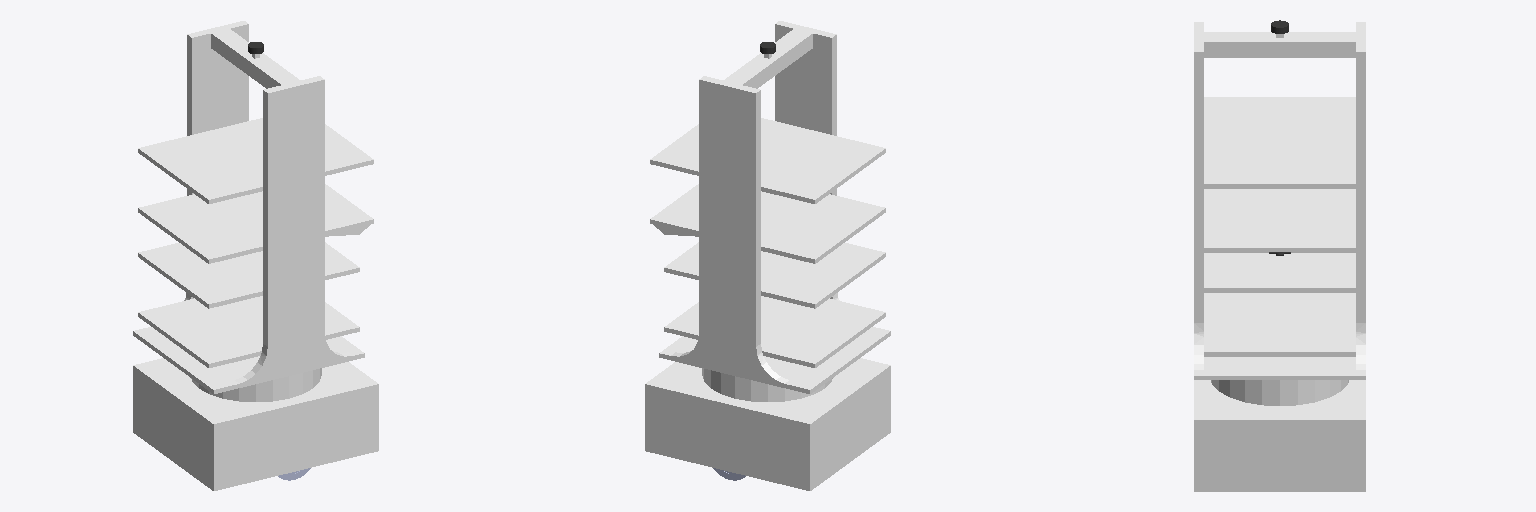
robot.urdf — serv_robot:
<?xml version="1.0"?>
<!-- This URDF was automatically created by SolidWorks to URDF Exporter! Originally created by Stephen Brawner (brawner@gmail.com) 
     Commit Version: 1.6.0-4-g7f85cfe  Build Version: 1.6.7995.38578
     For more information, please see http://wiki.ros.org/sw_urdf_exporter -->
<robot
  name="serv_robot">
  <link name="base_link" />
  <joint name="base_link_joint" type="fixed">
    <origin xyz="0 0 0" rpy="0 0 0" />
    <parent link="base_link" />
    <child link="chassis_base_link" />
  </joint>
  <link
    name="chassis_base_link">
    <inertial>
      <origin
        xyz="-0.0076538 1.6797E-11 0.2"
        rpy="0 0 0" />
      <mass
        value="66" />
      <inertia
        ixx="2.0133"
        ixy="5.0653E-09"
        ixz="-0.01209"
        iyy="1.9768"
        iyz="-6.8859E-10"
        izz="0.71214" />
    </inertial>
    <visual>
      <origin
        xyz="0 0 0"
        rpy="0 0 0" />
      <geometry>
        <mesh
          filename="package://serv_robot/meshes/chassis_base_link.STL" />
      </geometry>
      <material
        name="">
        <color
          rgba="1 1 1 1" />
      </material>
    </visual>
    <collision>
      <origin xyz="0 0 0.4" rpy="0 0 0" />
      <geometry>
        <box size="0.46 0.46 0.8" />
      </geometry>
    </collision>
  </link>
  <link
    name="right_wheel_link">
    <inertial>
      <origin
        xyz="-5.7732E-15 -1.3878E-16 -8.9928E-15"
        rpy="0 0 0" />
      <mass
        value="0.7543" />
      <inertia
        ixx="0.001339"
        ixy="1.0739E-20"
        ixz="2.6734E-22"
        iyy="0.001339"
        iyz="-7.0249E-21"
        izz="0.002494" />
    </inertial>
    <visual>
      <origin
        xyz="0 0 0"
        rpy="1.5708 0 0" />
      <geometry>
        <mesh
          filename="package://serv_robot/meshes/right_wheel_link.STL" />
      </geometry>
      <material
        name="">
        <color
          rgba="0.79216 0.81961 0.93333 1" />
      </material>
    </visual>
    <collision>
      <origin xyz="0 0 0" rpy="0 0 0" />
      <geometry>
        <sphere radius="0.081" />
      </geometry>
    </collision>
  </link>
  <joint
    name="right_wheel_joint"
    type="continuous">
    <origin
      xyz="0 -0.2125 0.043"
      rpy="0 0 0" />
    <parent
      link="chassis_base_link" />
    <child
      link="right_wheel_link" />
    <axis
      xyz="0 1 0" />
  </joint>
  <link
    name="left_wheel_link">
    <inertial>
      <origin
        xyz="-5.7732E-15 -8.3267E-17 -9.1038E-15"
        rpy="0 0 0" />
      <mass
        value="0.7543" />
      <inertia
        ixx="0.001339"
        ixy="-8.4382E-36"
        ixz="-9.2695E-37"
        iyy="0.001339"
        iyz="-3.8794E-20"
        izz="0.002494" />
    </inertial>
    <visual>
      <origin
        xyz="0 0 0"
        rpy="1.5708 0 0" />
      <geometry>
        <mesh
          filename="package://serv_robot/meshes/left_wheel_link.STL" />
      </geometry>
      <material
        name="">
        <color
          rgba="0.79216 0.81961 0.93333 1" />
      </material>
    </visual>
    <collision>
      <origin xyz="0 0 0" rpy="0 0 0" />
      <geometry>
        <sphere radius="0.081" />
      </geometry>
    </collision>
  </link>
  <joint
    name="left_wheel_joint"
    type="continuous">
    <origin
      xyz="0 0.2125 0.043"
      rpy="0 0 0" />
    <parent
      link="chassis_base_link" />
    <child
      link="left_wheel_link" />
    <axis
      xyz="0 1 0" />
  </joint>
  <link
    name="front_castor_link">
    <inertial>
      <origin
        xyz="-2.2204E-16 0 0.012"
        rpy="0 0 0" />
      <mass
        value="0.047189" />
      <inertia
        ixx="4.732E-05"
        ixy="0"
        ixz="0"
        iyy="4.732E-05"
        iyz="0"
        izz="4.732E-05" />
    </inertial>
    <visual>
      <origin
        xyz="0 0 0"
        rpy="0 0 0" />
      <geometry>
        <mesh
          filename="package://serv_robot/meshes/front_castor_link.STL" />
      </geometry>
      <material
        name="">
        <color
          rgba="0.79216 0.81961 0.93333 1" />
      </material>
    </visual>
    <collision>
      <origin xyz="0 0 0.012" rpy="0 0 0" />
      <geometry>
        <sphere radius="0.05" />
      </geometry>
    </collision>
  </link>
  <joint
    name="front_castor_joint"
    type="fixed">
    <origin
      xyz="0.2102 0 0"
      rpy="0 0 0" />
    <parent
      link="chassis_base_link" />
    <child
      link="front_castor_link" />
    <axis
      xyz="0 0 0" />
  </joint>
  <link
    name="back_castor_link">
    <inertial>
      <origin
        xyz="5.7732E-15 -9.1038E-15 0.012"
        rpy="0 0 0" />
      <mass
        value="0.047189" />
      <inertia
        ixx="4.732E-05"
        ixy="0"
        ixz="0"
        iyy="4.732E-05"
        iyz="0"
        izz="4.732E-05" />
    </inertial>
    <visual>
      <origin
        xyz="0 0 0"
        rpy="0 0 0" />
      <geometry>
        <mesh
          filename="package://serv_robot/meshes/back_castor_link.STL" />
      </geometry>
      <material
        name="">
        <color
          rgba="0.77647 0.75686 0.73725 1" />
      </material>
    </visual>
    <collision>
      <origin xyz="0 0 0.012" rpy="0 0 0" />
      <geometry>
        <sphere radius="0.05" />
      </geometry>
    </collision>
  </link>
  <joint
    name="back_castor_joint"
    type="fixed">
    <origin
      xyz="-0.2102 0 0"
      rpy="0 0 0" />
    <parent
      link="chassis_base_link" />
    <child
      link="back_castor_link" />
    <axis
      xyz="0 0 0" />
  </joint>
  <link
    name="camera_link">
    <inertial>
      <origin
        xyz="0.010798 9.2149E-15 -4.6629E-15"
        rpy="0 0 0" />
      <mass
        value="0.038454" />
      <inertia
        ixx="1.3692E-05"
        ixy="7.1932E-22"
        ixz="0"
        iyy="4.36E-06"
        iyz="1.8873E-22"
        izz="1.246E-05" />
    </inertial>
    <visual>
      <origin
        xyz="0 0 0"
        rpy="0 0 0" />
      <geometry>
        <mesh
          filename="package://serv_robot/meshes/camera_link.STL" />
      </geometry>
      <material
        name="">
        <color
          rgba="0.26667 0.26667 0.26667 1" />
      </material>
    </visual>
    <collision>
      <origin xyz="0 0 0" rpy="0 0 0" />
      <geometry>
        <box size="0.04 0.025 0.02" />
      </geometry>
    </collision>
  </link>
  <joint
    name="camera_joint"
    type="fixed">
    <origin
      xyz="0.25106 0 0.74709"
      rpy="0 0.99484 0" />
    <parent
      link="chassis_base_link" />
    <child
      link="camera_link" />
    <axis
      xyz="0 0 0" />
  </joint>
  <link
    name="lidar_link">
    <inertial>
      <origin
        xyz="-5.7732E-15 9.1038E-15 0.010567"
        rpy="0 0 0" />
      <mass
        value="0.03527" />
      <inertia
        ixx="7.1669E-06"
        ixy="1.4117E-24"
        ixz="-6.7257E-23"
        iyy="7.1669E-06"
        iyz="1.4332E-23"
        izz="1.2005E-05" />
    </inertial>
    <visual>
      <origin
        xyz="0 0 0"
        rpy="0 0 0" />
      <geometry>
        <mesh
          filename="package://serv_robot/meshes/lidar_link.STL" />
      </geometry>
      <material
        name="">
        <color
          rgba="0.26667 0.26667 0.26667 1" />
      </material>
    </visual>
    <collision>
      <origin xyz="0 0 0" rpy="0 0 0" />
      <geometry>
        <cylinder radius="0.04" length="0.02" />
      </geometry>
    </collision>
  </link>
  <joint
    name="lidar_joint"
    type="fixed">
    <origin
      xyz="0 0 1.307"
      rpy="0 0 0" />
    <parent
      link="chassis_base_link" />
    <child
      link="lidar_link" />
    <axis
      xyz="0 0 0" />
  </joint>

  <!-- Gazebo simplified collision geometry and materials -->
  <gazebo reference="chassis_base_link">
    <material>Gazebo/White</material>
    <sensor name="imu_sensor" type="imu">
      <always_on>true</always_on>
      <update_rate>100</update_rate>
      <visualize>false</visualize>
      <plugin name="gazebo_ros_imu" filename="libgazebo_ros_imu_sensor.so">
        <ros>
          <remapping>~/out:=imu</remapping>
        </ros>
        <initial_orientation_as_reference>false</initial_orientation_as_reference>
        <frame_name>base_link</frame_name>
      </plugin>
    </sensor>
  </gazebo>
  <gazebo reference="right_wheel_link">
    <material>Gazebo/Blue</material>
    <mu1>1.0</mu1>
    <mu2>1.0</mu2>
    <kp>1e6</kp>
    <kd>10.0</kd>
  </gazebo>
  <gazebo reference="left_wheel_link">
    <material>Gazebo/Blue</material>
    <mu1>1.0</mu1>
    <mu2>1.0</mu2>
    <kp>1e6</kp>
    <kd>10.0</kd>
  </gazebo>
  <gazebo reference="front_castor_link">
    <material>Gazebo/Grey</material>
    <mu1>0.01</mu1>
    <mu2>0.01</mu2>
    <kp>1e6</kp>
    <kd>10.0</kd>
  </gazebo>
  <gazebo reference="back_castor_link">
    <material>Gazebo/Grey</material>
    <mu1>0.01</mu1>
    <mu2>0.01</mu2>
    <kp>1e6</kp>
    <kd>10.0</kd>
  </gazebo>
  <gazebo reference="camera_link">
    <material>Gazebo/DarkGrey</material>
  </gazebo>
  <gazebo reference="lidar_link">
    <material>Gazebo/DarkGrey</material>
    <sensor name="lidar" type="ray">
      <always_on>true</always_on>
      <visualize>false</visualize>
      <update_rate>5</update_rate>
      <ray>
        <scan>
          <horizontal>
            <samples>360</samples>
            <resolution>1</resolution>
            <min_angle>-3.14159</min_angle>
            <max_angle>3.14159</max_angle>
          </horizontal>
        </scan>
        <range>
          <min>0.12</min>
          <max>12.0</max>
          <resolution>0.015</resolution>
        </range>
        <noise>
          <type>gaussian</type>
          <mean>0.0</mean>
          <stddev>0.01</stddev>
        </noise>
      </ray>
      <plugin name="gazebo_ros_lidar" filename="libgazebo_ros_ray_sensor.so">
        <ros>
          <remapping>~/out:=scan</remapping>
        </ros>
        <output_type>sensor_msgs/LaserScan</output_type>
        <frame_name>lidar_link</frame_name>
      </plugin>
    </sensor>
  </gazebo>

  <gazebo>
    <plugin name="gazebo_ros_joint_state_publisher" filename="libgazebo_ros_joint_state_publisher.so">
      <ros>
        <remapping>~/out:=joint_states</remapping>
      </ros>
      <update_rate>30</update_rate>
      <joint_name>left_wheel_joint</joint_name>
      <joint_name>right_wheel_joint</joint_name>
    </plugin>
  </gazebo>

  <gazebo>
    <plugin name="diff_drive" filename="libgazebo_ros_diff_drive.so">
      <ros>
        <namespace>/</namespace>
      </ros>
      <left_joint>left_wheel_joint</left_joint>
      <right_joint>right_wheel_joint</right_joint>
      <wheel_separation>0.425</wheel_separation>
      <wheel_diameter>0.162</wheel_diameter>
      <max_wheel_torque>200</max_wheel_torque>
      <max_wheel_acceleration>1.0</max_wheel_acceleration>
      <command_topic>cmd_vel</command_topic>
      <odometry_topic>odom</odometry_topic>
      <odometry_frame>odom</odometry_frame>
      <robot_base_frame>base_link</robot_base_frame>
      <publish_odom>true</publish_odom>
      <publish_odom_tf>true</publish_odom_tf>
      <publish_wheel_tf>false</publish_wheel_tf>
    </plugin>
  </gazebo>

</robot>

--- Render facts (derived) ---
Views: 3 orthographic renders of the robot side by side, from view 1: azimuth 30°, elevation 25°; view 2: azimuth 150°, elevation 25°; view 3: azimuth 270°, elevation 25°.
Model serv_robot with 8 links and 7 joints (2 continuous, 5 fixed), rooted at base_link, posed every joint at zero.
Visible links, largest first — view 1: chassis_base_link; view 2: chassis_base_link; view 3: chassis_base_link.
Boxes of the visible links, left/top/right/bottom form: chassis_base_link: left=133, top=21, right=378, bottom=490; chassis_base_link: left=645, top=21, right=890, bottom=490; chassis_base_link: left=1194, top=22, right=1365, bottom=491.
Size in the robot's own frame: 0.58 by 0.49 by 1.36 metres.
7 mesh visuals loaded from 7 distinct referenced files (7 binary STL).
